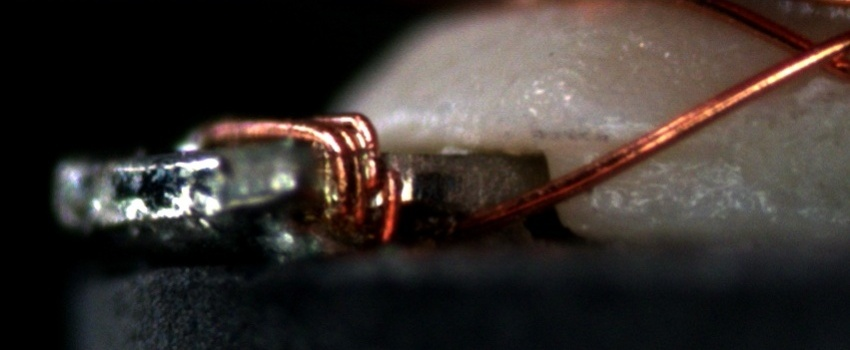CL: (768, 23, 848, 80)
DL: (554, 111, 729, 167)
TE: (179, 103, 410, 250)
